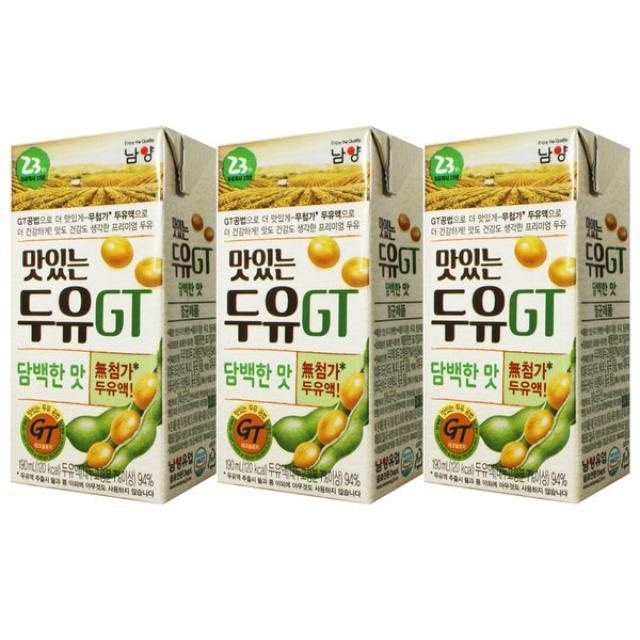Tetra: (421, 126, 640, 520), (217, 125, 426, 526), (5, 124, 216, 514)
